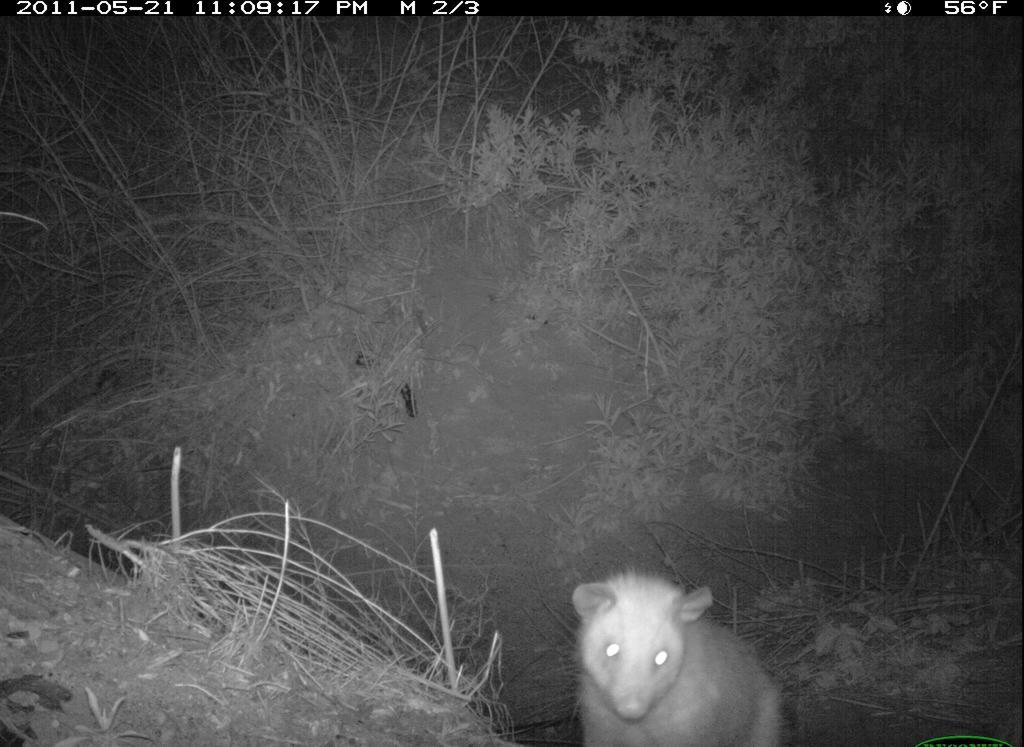opossum: (574, 571, 783, 747)
